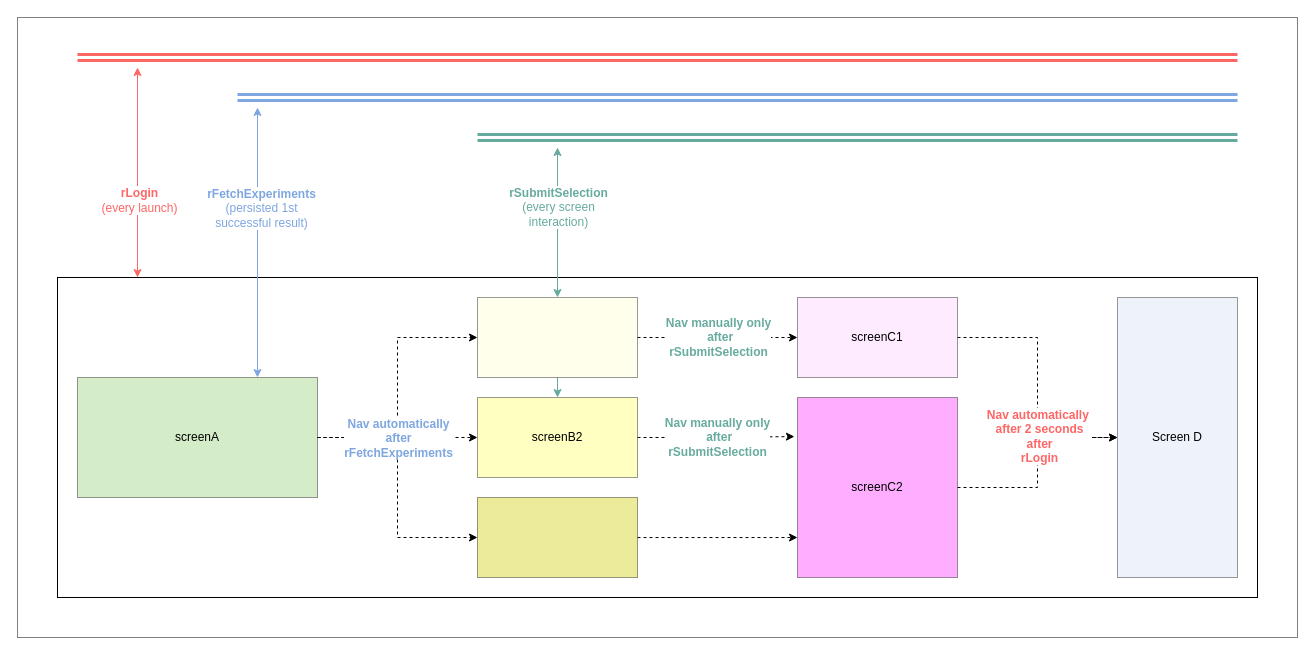
This 1315x655 diagram has some shape labels left out. The centre of each missing label's shape, as x and y in pixels:
screenB1: the point at 557,337
screenB3: the point at 557,537
